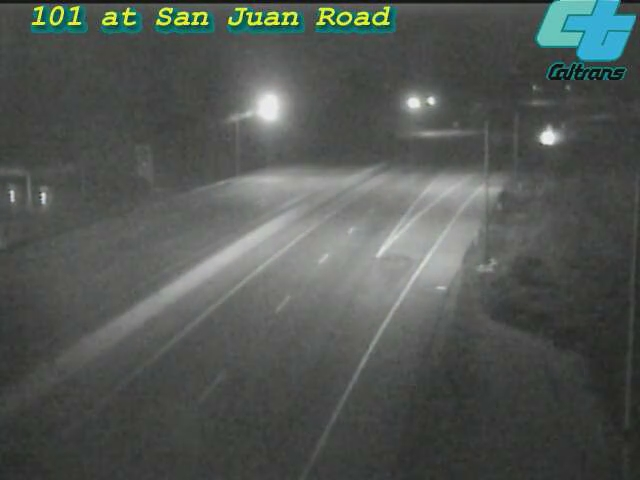vehicle: (525, 112, 575, 162)
